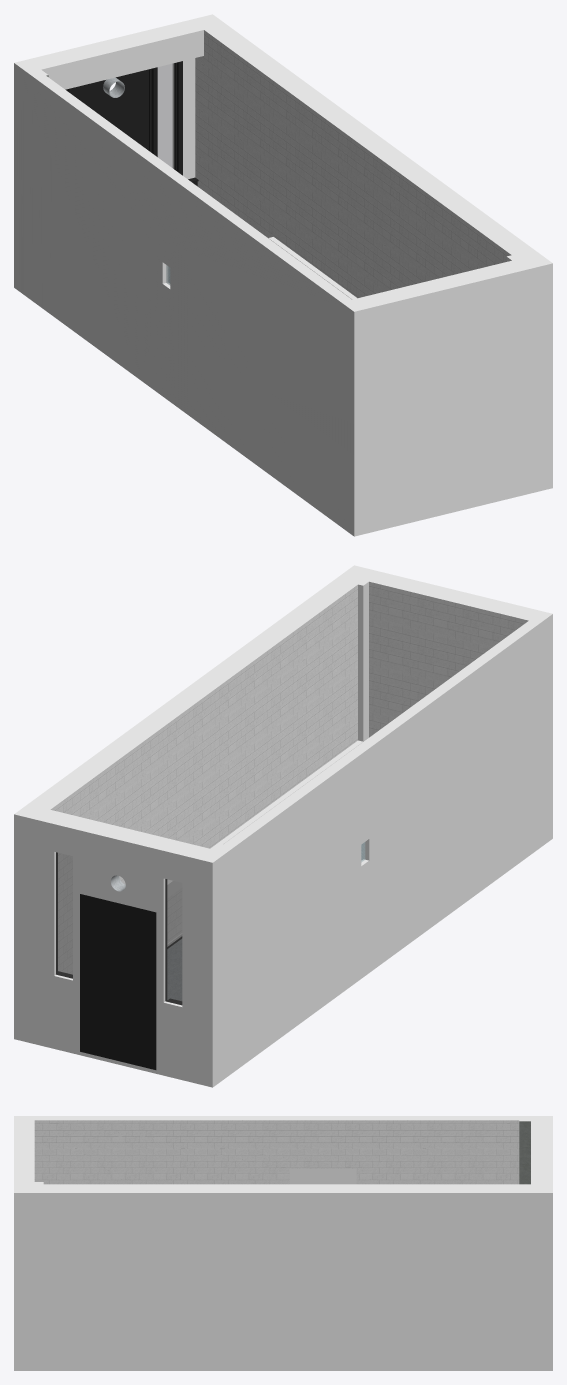
The model's file is Room.fbx.
3 views of the same model, one above another, from view 1: azimuth 30°, elevation 25°; view 2: azimuth 150°, elevation 25°; view 3: azimuth 270°, elevation 25° (orthographic). The views are drawn at different scales.
Parts seen in each view (by area): view 1: Model, Group2, Group3; view 2: Model, Group3, Group2; view 3: Model, Group2.
Part boxes in pixels (x1,y1,x2,y2): Model: (14,14,552,536); Group2: (141,221,177,406); Group3: (92,95,148,150); Model: (14,565,552,1087); Group3: (80,894,156,1069); Group2: (339,809,376,993); Model: (14,1116,552,1370); Group2: (293,1171,351,1184).
Size of the model in its own units: 2646 by 2859 by 7842.
